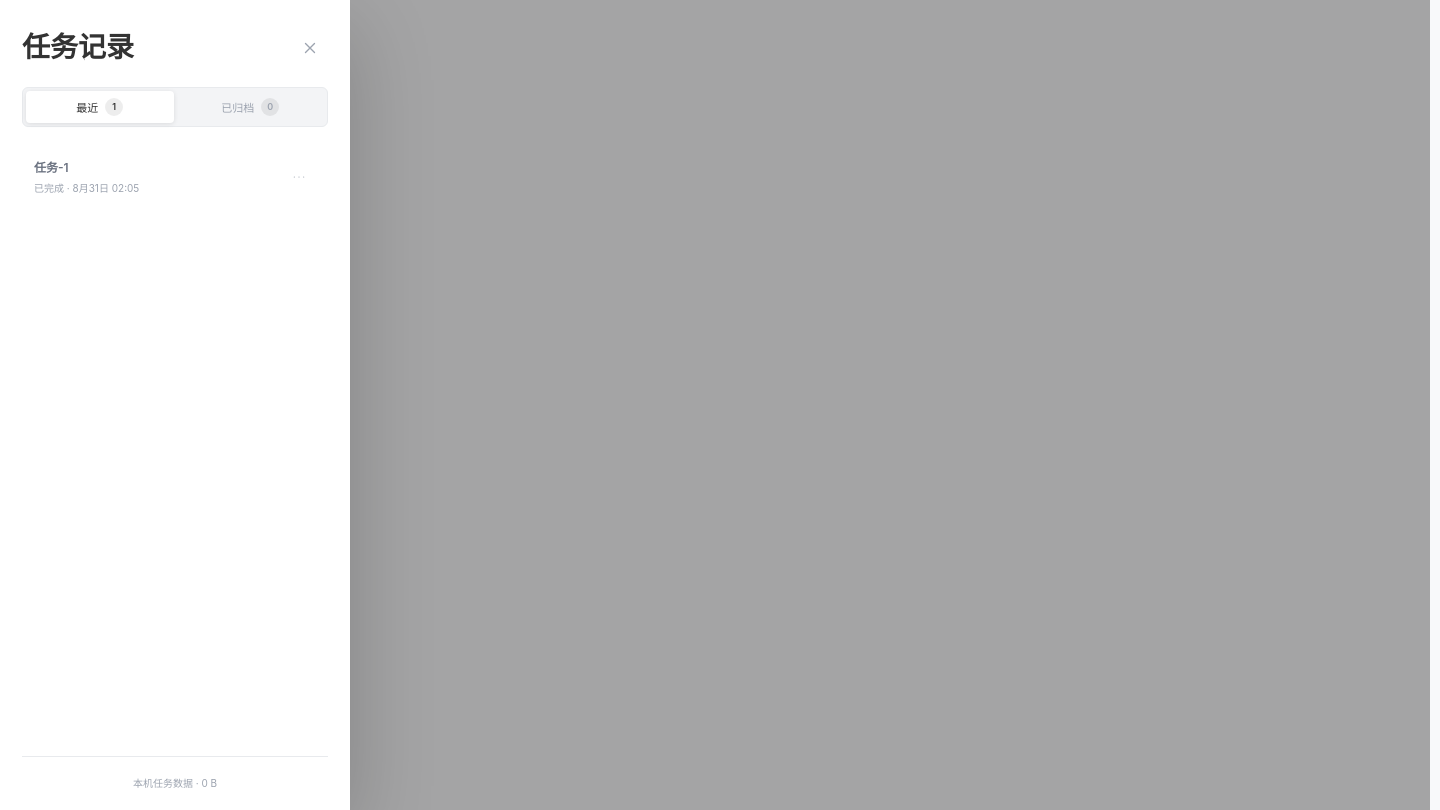
Test: 归档与恢复 › 归档：POST /api/jobs/{id}/archive + 刷新 + 归档 toast
The width and height of the screenshot is (1440, 810).
expect the text "任务-1" is shown: met, box top-left (34, 160), bottom-right (69, 175)
What coordinates should you click on to do the following:
click the button named "更多操作"
I would click on:
 (299, 177)
Its box is top-left (284, 162), bottom-right (314, 192).
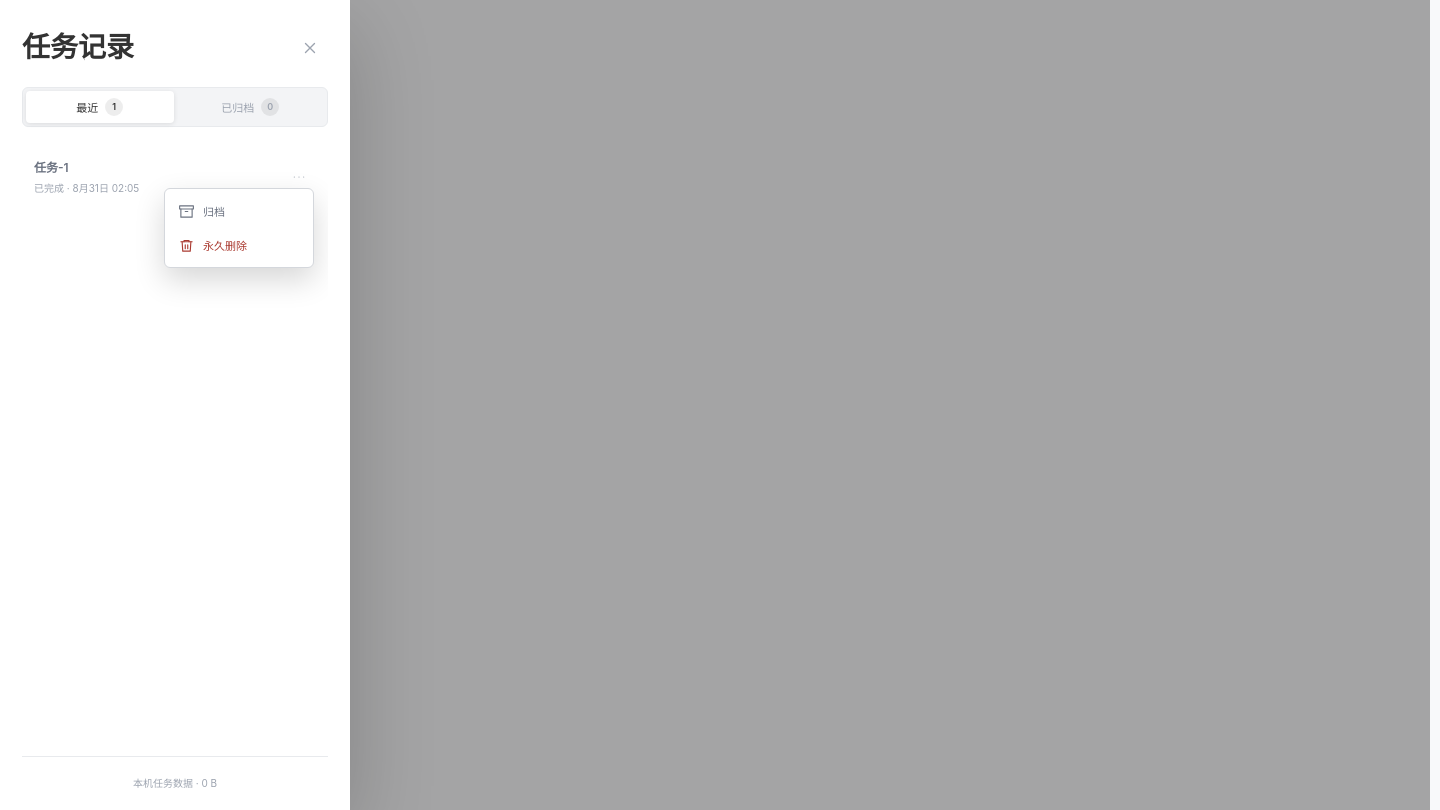
What coordinates should you click on to do the following:
click the menu item "归档"
I would click on:
 (239, 211)
Its box is top-left (170, 194), bottom-right (308, 228).
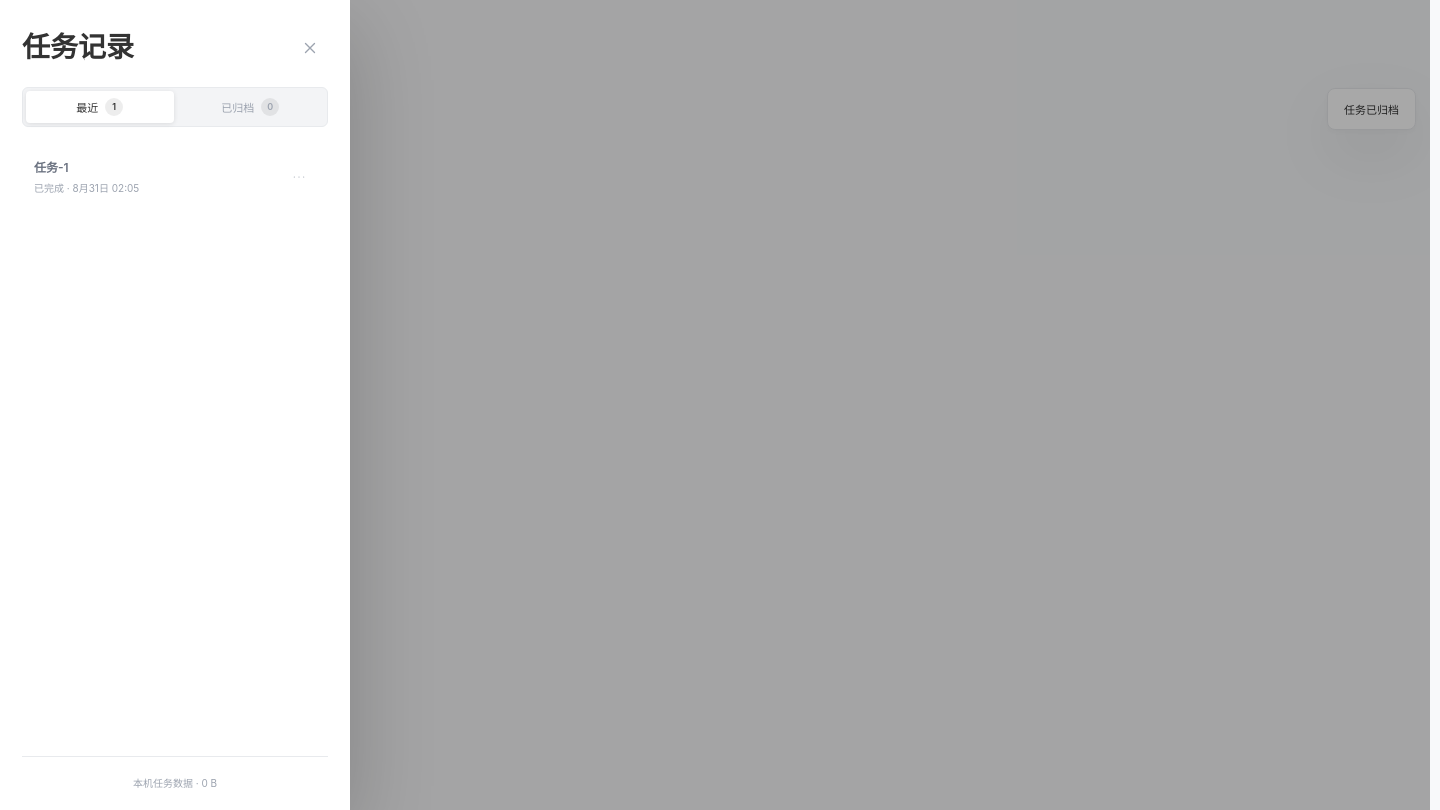
expect the text "任务已归档" is shown: met, box top-left (1327, 88), bottom-right (1416, 130)
